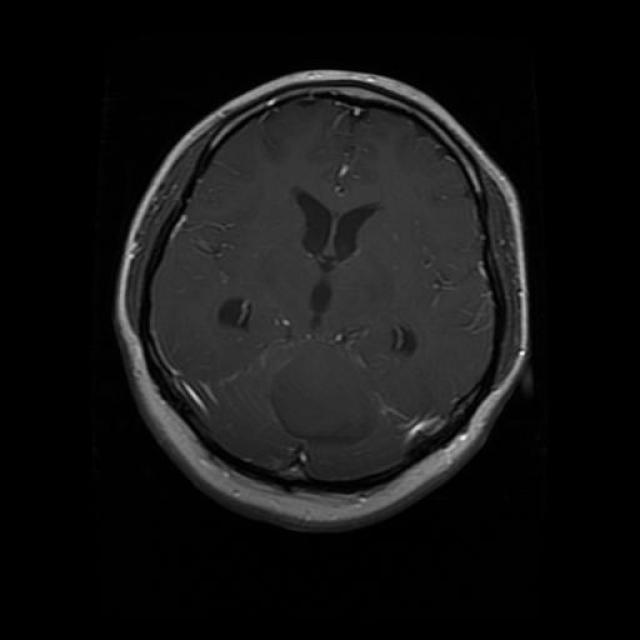glioma: (264, 168, 383, 312)
